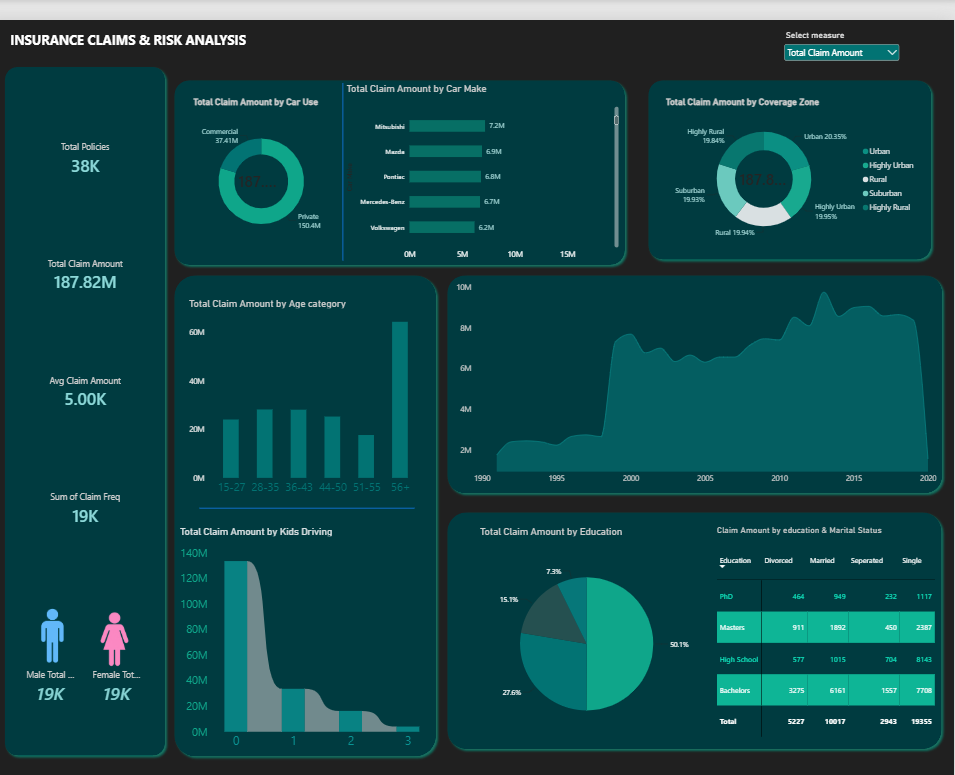

This screenshot's page, from the dashboard's own definition file:
{"tool":"powerbi","page":{"name":"Page 1","canvas":[1800,1400],"ordinal":0},"visuals":[{"type":"textbox","box":[31.7,20,480,35],"z":0},{"type":"shape","box":[33.3,78.8,315.2,1293.9],"z":1000},{"type":"cardVisual","fields":{"Data":["insurance_data_car.Total Policies","insurance_data_car.Total Claim Amount","Sum(insurance_data_car.Claim Freq)","insurance_data_car.Avg Claim Amount"]},"box":[85,135,210,890],"z":2000},{"type":"cardVisual","fields":{"Data":["insurance_data_car.Male Total Policies","insurance_data_car.Female Total Policies"]},"box":[53.3,1180,273.3,111.7],"z":3000},{"type":"image","box":[68.3,1081.7,121.7,116.7],"z":4000},{"type":"image","box":[163.3,1088.3,163.3,116.7],"z":5000},{"type":"shape","box":[347.5,102.5,852.5,360],"z":6000},{"type":"slicer","fields":{"Values":["Select measure.Select measure"]},"box":[1480,20,223.2,71.4],"z":7000},{"type":"clusteredBarChart","fields":{"Category":["insurance_data_car.Car Make"],"Y":["insurance_data_car.Total Claim Amount"]},"box":[674.3,115.7,504.3,331.4],"z":8000},{"type":"shape","box":[660,115.7,14.3,328.6],"z":9000},{"type":"donutChart","fields":{"Category":["insurance_data_car.Car Use"],"Y":["insurance_data_car.Total Claim Amount"]},"box":[375.7,128.6,284.3,308.6],"z":10000},{"type":"shape","box":[1223.7,102.6,542.1,350],"z":11000},{"type":"donutChart","fields":{"Category":["insurance_data_car.Coverage Zone"],"Y":["insurance_data_car.Total Claim Amount"]},"box":[1250.7,128.2,500,300],"z":12000},{"type":"shape","box":[348.5,463.6,503,909.1],"z":13000},{"type":"clusteredColumnChart","fields":{"Category":["insurance_data_car.Age category"],"Y":["insurance_data_car.Total Claim Amount"]},"box":[382.5,515,432.5,370],"z":14000},{"type":"ribbonChart","fields":{"Category":["insurance_data_car.Kids Driving"],"Y":["insurance_data_car.Total Claim Amount"]},"box":[366,936,464.4,420],"z":15000},{"type":"shape","box":[404,886,398,36],"z":16000},{"type":"shape","box":[852.2,463,934.8,421.7],"z":17000},{"type":"shape","box":[853.3,903.3,933.3,456.7],"z":18000},{"type":"areaChart","fields":{"Category":["insurance_data_car.Car Year"],"Y":["insurance_data_car.Total Claim Amount"]},"box":[876.7,483.3,890,380],"z":19000},{"type":"pieChart","fields":{"Category":["insurance_data_car.Education"],"Y":["insurance_data_car.Total Claim Amount"]},"box":[923.3,936.7,395,406.7],"z":20000},{"type":"pivotTable","title":"Claim Amount by education & Marital Status","fields":{"Columns":["insurance_data_car.Marital Status"],"Rows":["insurance_data_car.Education"],"Values":["insurance_data_car.Total Policies"]},"box":[1360.6,936.4,405.3,406.8],"z":21000}]}

Visuals, with their boxes on the page's 1800x1400 design canvas (x1, y1, x2, y2). These are canvas units, not pixel positions in the 955x775 screenshot, which may show the page scaled, cropped or inside an application window:
textbox: 32, 20, 512, 55
shape: 33, 79, 348, 1373
cardVisual - insurance_data_car.Total Policies x insurance_data_car.Total Claim Amount: 85, 135, 295, 1025
cardVisual - insurance_data_car.Male Total Policies x insurance_data_car.Female Total Policies: 53, 1180, 327, 1292
image: 68, 1082, 190, 1198
image: 163, 1088, 327, 1205
shape: 348, 102, 1200, 462
slicer - Select measure.Select measure: 1480, 20, 1703, 91
clusteredBarChart - insurance_data_car.Car Make x insurance_data_car.Total Claim Amount: 674, 116, 1179, 447
shape: 660, 116, 674, 444
donutChart - insurance_data_car.Car Use x insurance_data_car.Total Claim Amount: 376, 129, 660, 437
shape: 1224, 103, 1766, 453
donutChart - insurance_data_car.Coverage Zone x insurance_data_car.Total Claim Amount: 1251, 128, 1751, 428
shape: 348, 464, 852, 1373
clusteredColumnChart - insurance_data_car.Age category x insurance_data_car.Total Claim Amount: 382, 515, 815, 885
ribbonChart - insurance_data_car.Kids Driving x insurance_data_car.Total Claim Amount: 366, 936, 830, 1356
shape: 404, 886, 802, 922
shape: 852, 463, 1787, 885
shape: 853, 903, 1787, 1360
areaChart - insurance_data_car.Car Year x insurance_data_car.Total Claim Amount: 877, 483, 1767, 863
pieChart - insurance_data_car.Education x insurance_data_car.Total Claim Amount: 923, 937, 1318, 1343
"Claim Amount by education & Marital Status" pivotTable: 1361, 936, 1766, 1343
